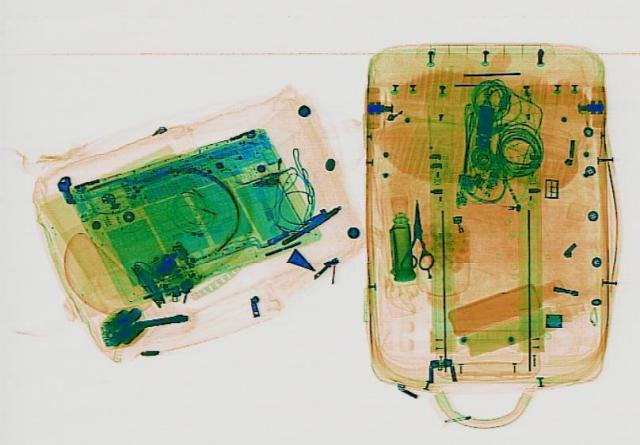Scissors: (400, 198, 432, 269)
